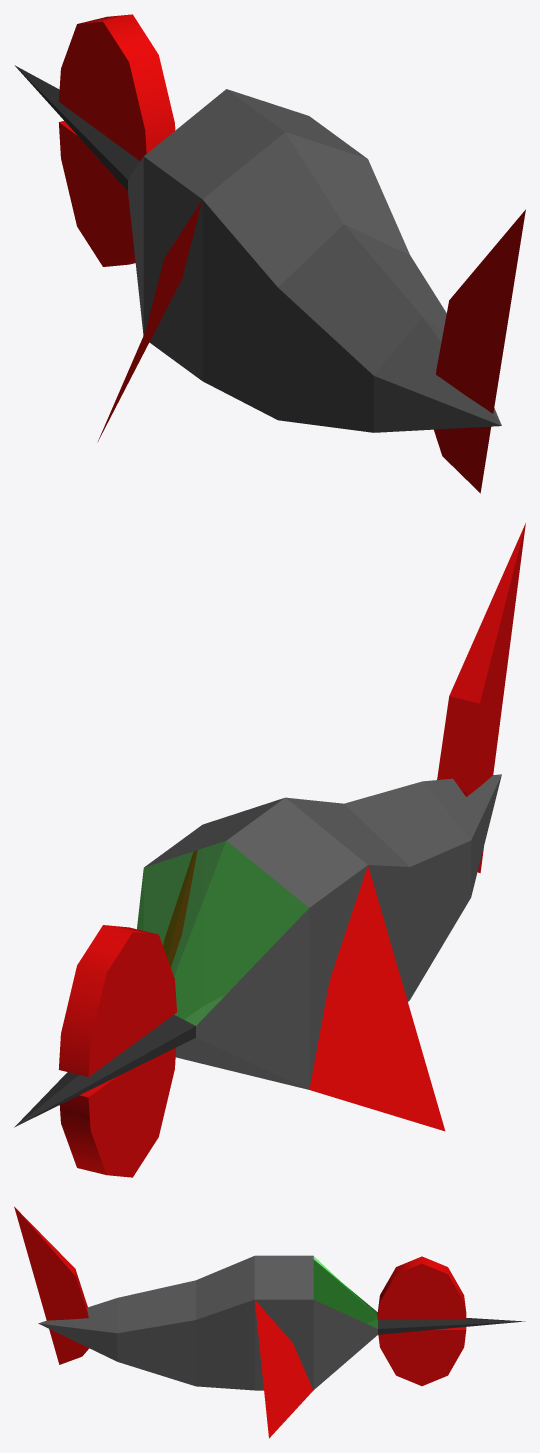
Rendered from ChomperEnemy.fbx.
3 views of the same model, one above another, from view 1: azimuth 30°, elevation 25°; view 2: azimuth 150°, elevation 25°; view 3: azimuth 270°, elevation 25° (orthographic). The views are drawn at different scales.
Visible parts, largest first — view 1: pCube1, pCylinder3, pCube2, pCylinder4; view 2: pCube1, pCylinder3, pCube2, pCylinder4; view 3: pCube1, pCube2, pCylinder3, pCylinder4.
Part boxes in pixels (x1,y1,x2,y2): pCube1: [14, 65, 501, 442]; pCylinder3: [59, 14, 175, 161]; pCube2: [434, 209, 525, 493]; pCylinder4: [58, 121, 135, 266]; pCube1: [14, 774, 501, 1131]; pCylinder3: [58, 925, 176, 1076]; pCube2: [437, 523, 525, 873]; pCylinder4: [59, 1047, 176, 1177]; pCube1: [38, 1255, 525, 1438]; pCube2: [14, 1206, 88, 1364]; pCylinder3: [377, 1256, 466, 1319]; pCylinder4: [377, 1323, 466, 1386].
Size of the model in its own units: 6.22 by 6.47 by 15.8.
